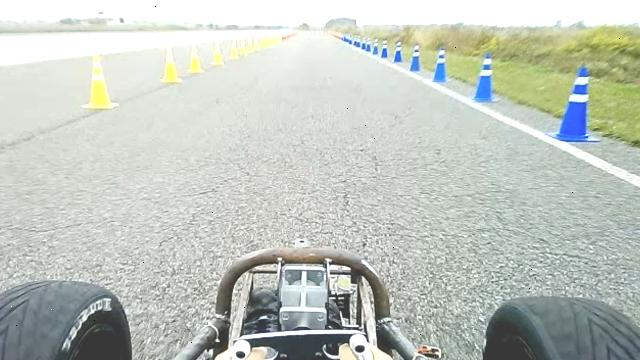blue cone: (546, 65, 601, 143), (472, 52, 498, 102), (432, 46, 449, 83), (409, 44, 421, 72), (392, 40, 403, 63), (381, 39, 388, 58), (372, 38, 379, 56)
yellow cone: (82, 53, 119, 109), (160, 44, 182, 82), (187, 42, 204, 73), (211, 40, 224, 66), (230, 38, 238, 58), (240, 37, 248, 56), (246, 36, 254, 53), (253, 35, 260, 52)
